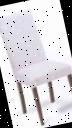Silla: (0, 5, 71, 127)
